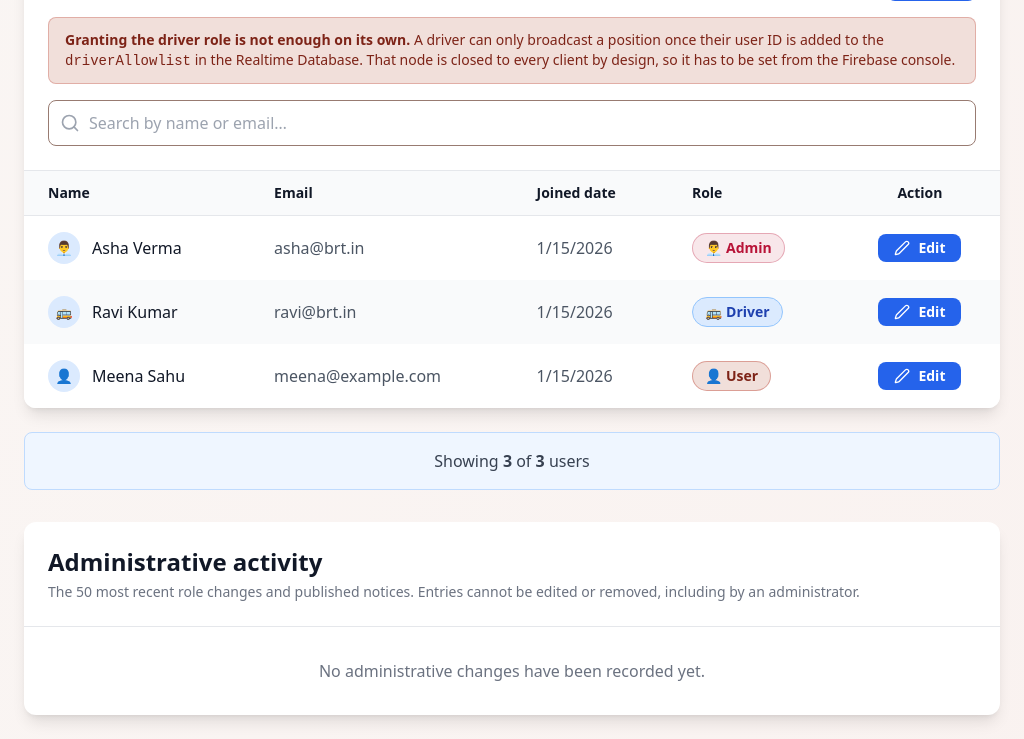
Test: changing somebody's role › shows the reason the service refused
(page scrolled)
Click the button "Edit" in the row of "Meena Sahu" at (920, 376), box [878,362,962,390]
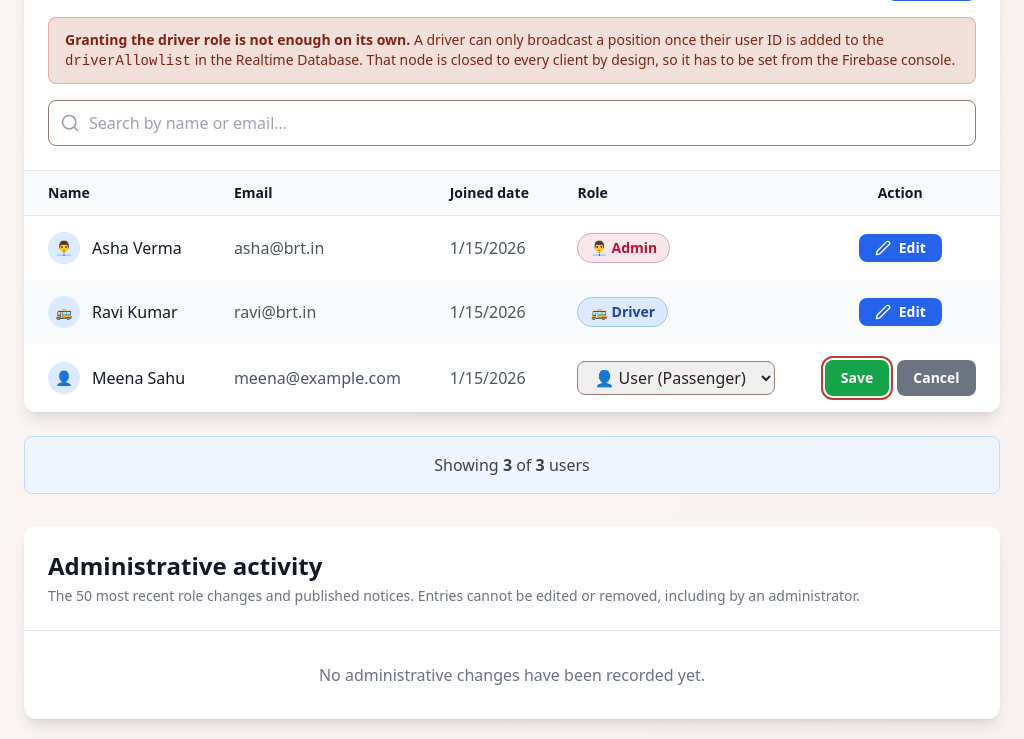
Select "🚌 Driver" in the dropdown named "Role for Meena Sahu" at (676, 378), box [577,361,775,395]
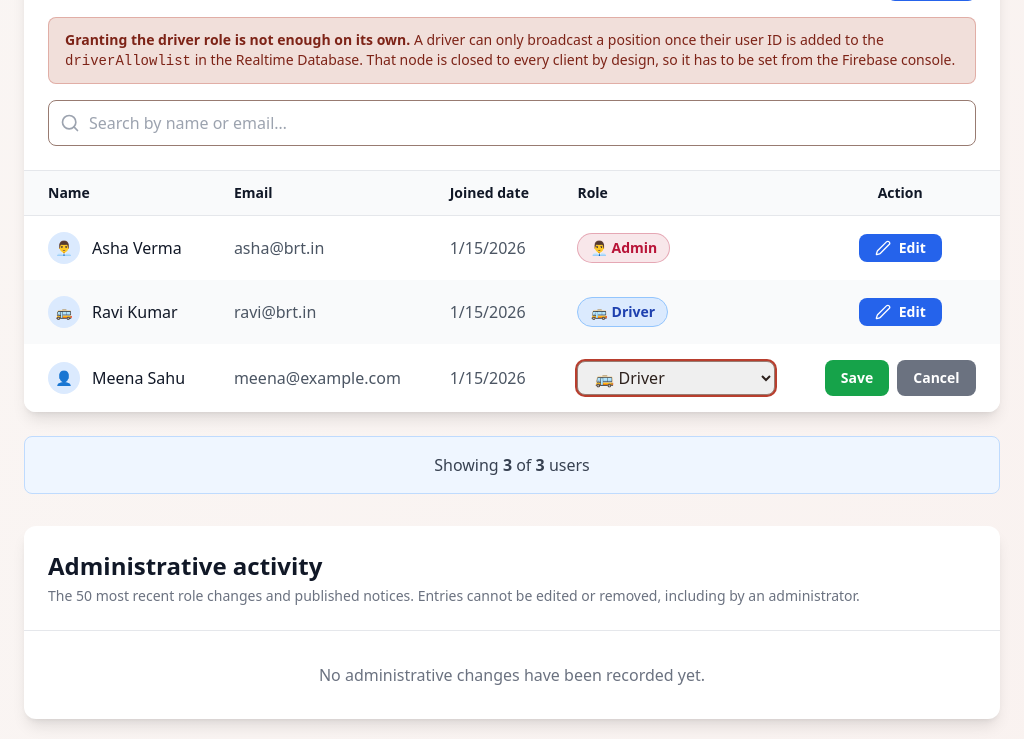
Click the button "Save" at (857, 378), box [825,360,889,396]
(page scrolled)
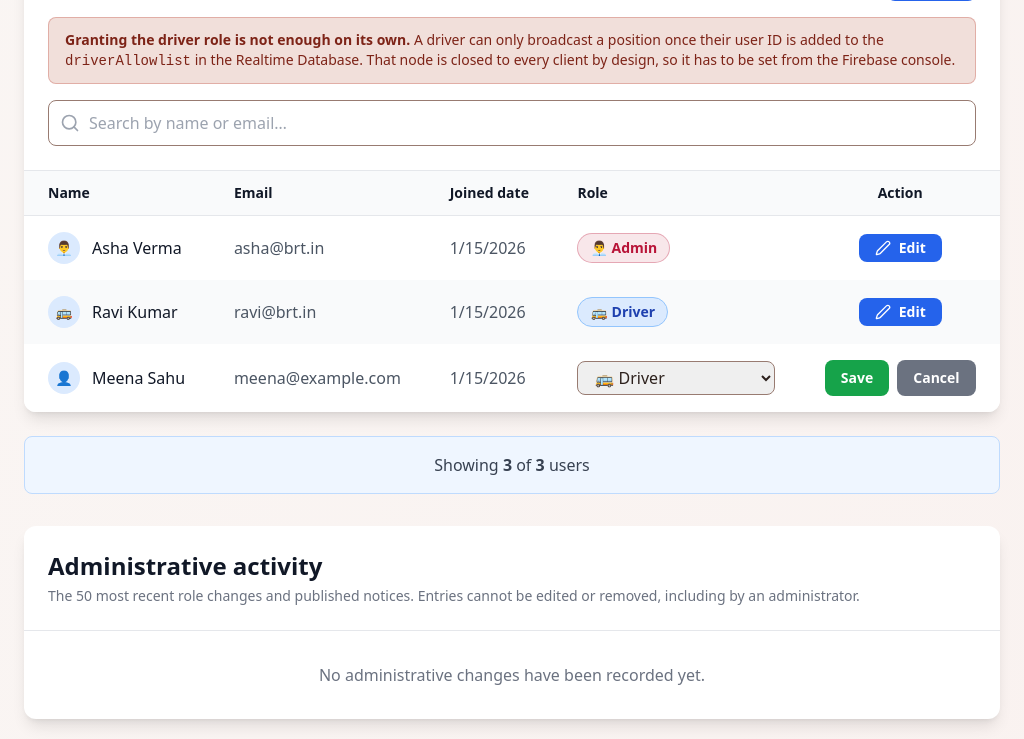
Click the button "Cancel" at (936, 378), box [897,360,976,396]
(page scrolled)
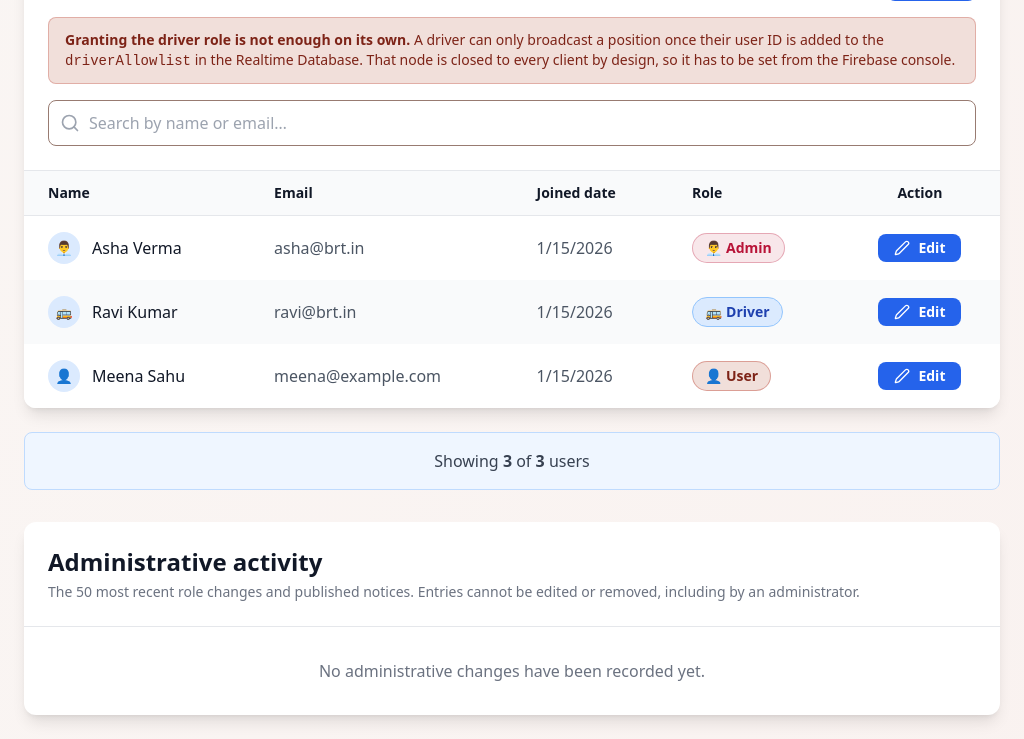
Result: the text "👤 User" is shown at [692,361,771,391]
